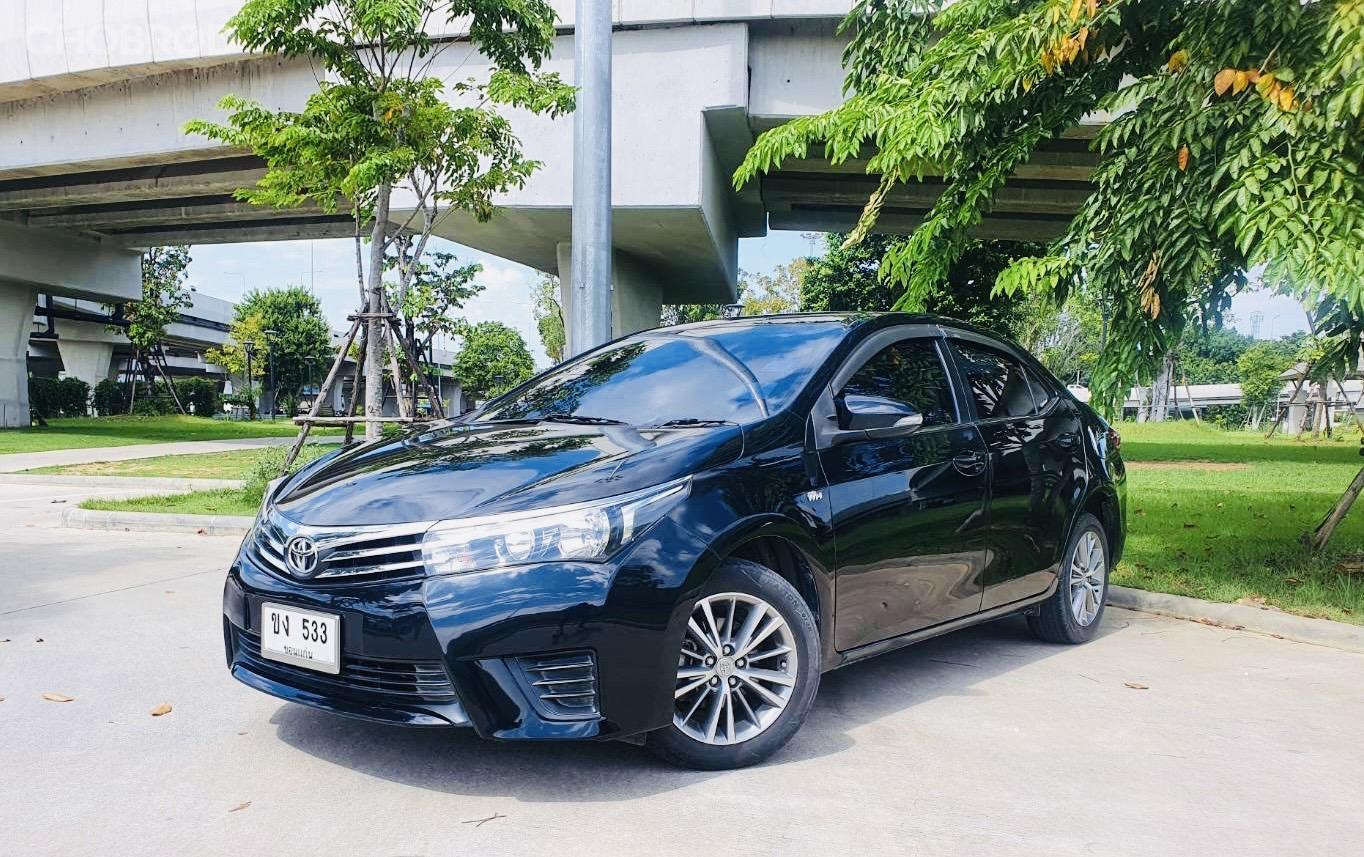license-plate: (259, 600, 344, 679)
